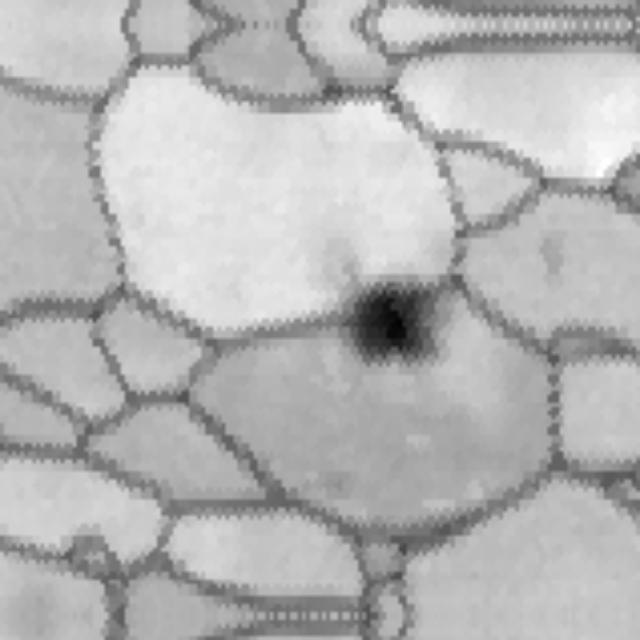good_void: (317, 255, 461, 398)
